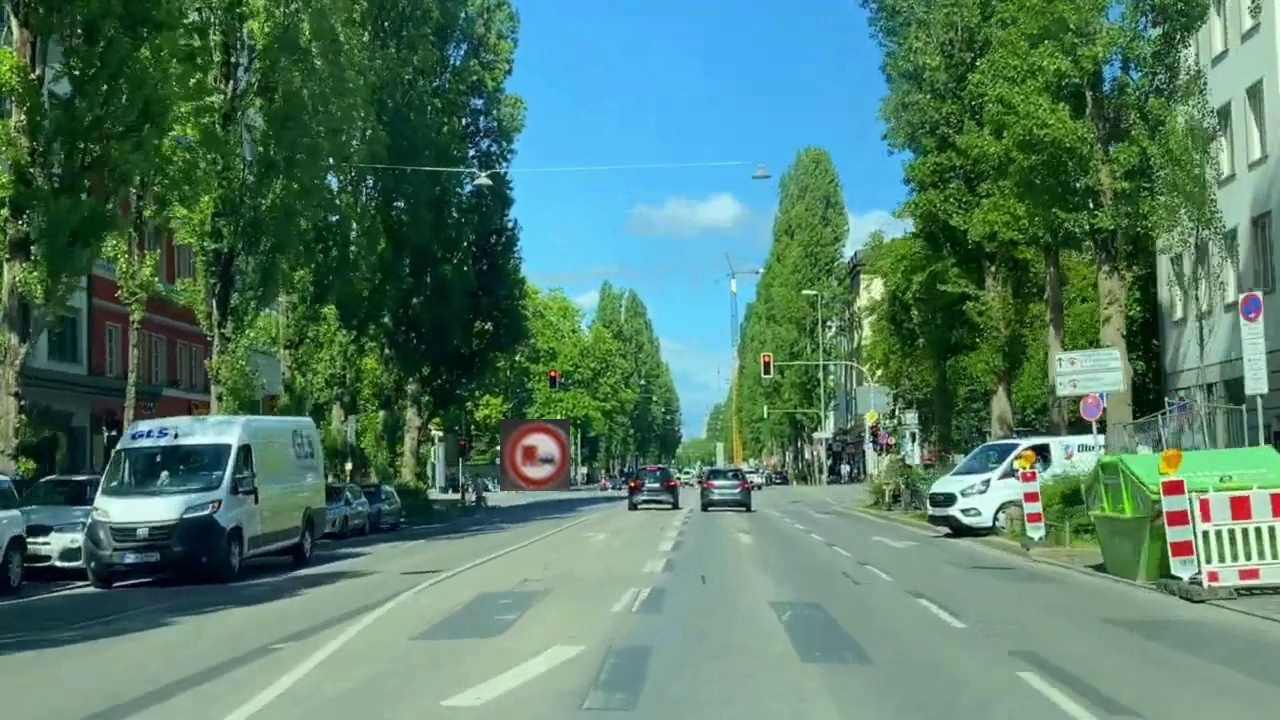No pass >3.5t: (500, 419, 570, 491)
